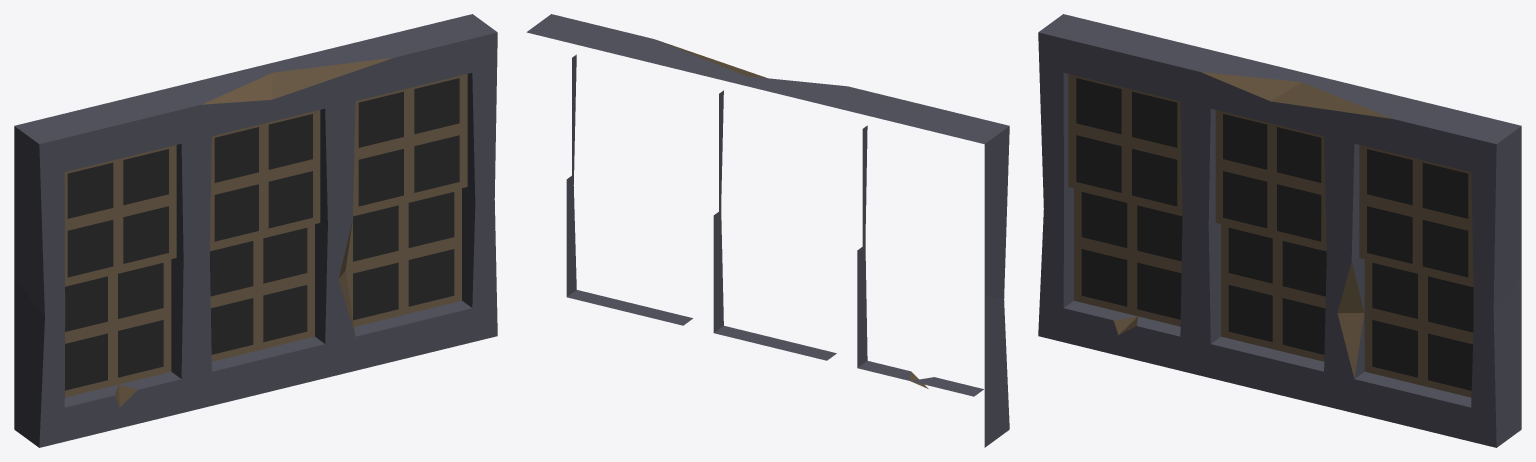
The model's file is SM_Prop_Window_01.glb.
3 views of the same model, side by side, from view 1: azimuth 30°, elevation 25°; view 2: azimuth 150°, elevation 25°; view 3: azimuth 330°, elevation 25° (orthographic).
Parts seen in each view (by area): view 1: SM_Prop_Window_01; view 2: SM_Prop_Window_01; view 3: SM_Prop_Window_01.
Boxes of the visible parts, left/top/right/bottom form: SM_Prop_Window_01: left=14, top=14, right=497, bottom=447; SM_Prop_Window_01: left=526, top=14, right=1009, bottom=447; SM_Prop_Window_01: left=1038, top=14, right=1521, bottom=447.
Size of the model in its own units: 0.0199 by 0.0126 by 0.00189.
